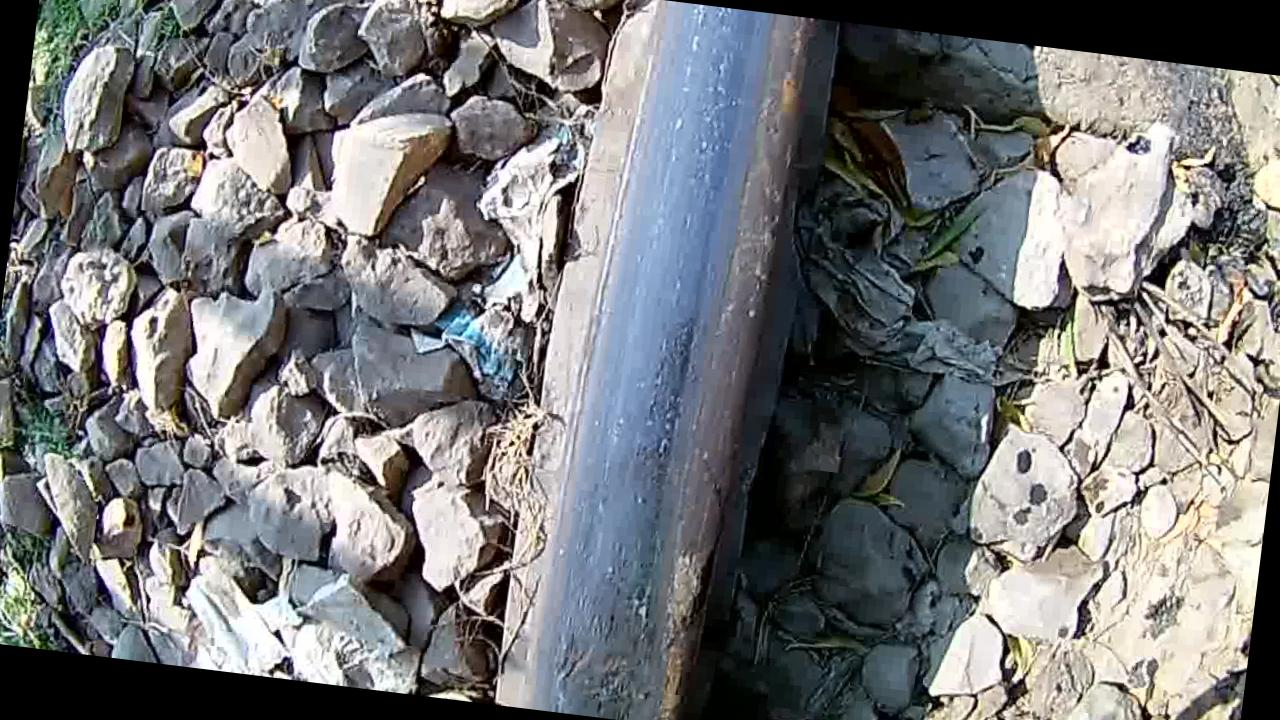bolt_missing: (532, 474, 704, 720)
